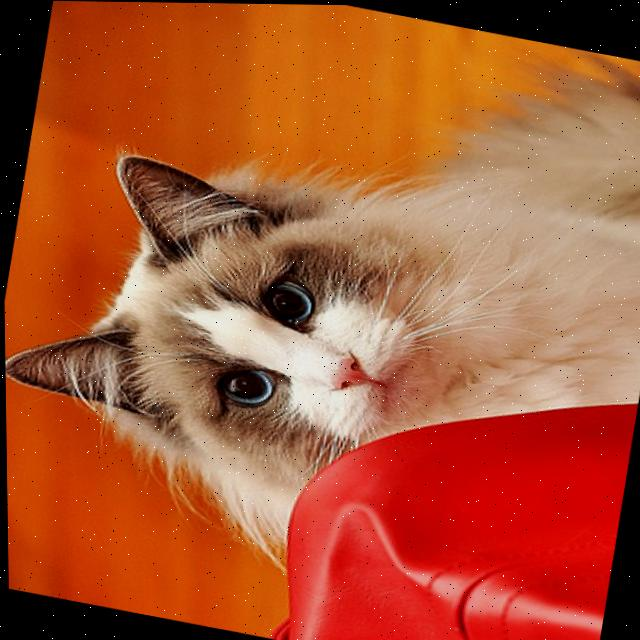Ragdoll: (0, 0, 640, 618)
